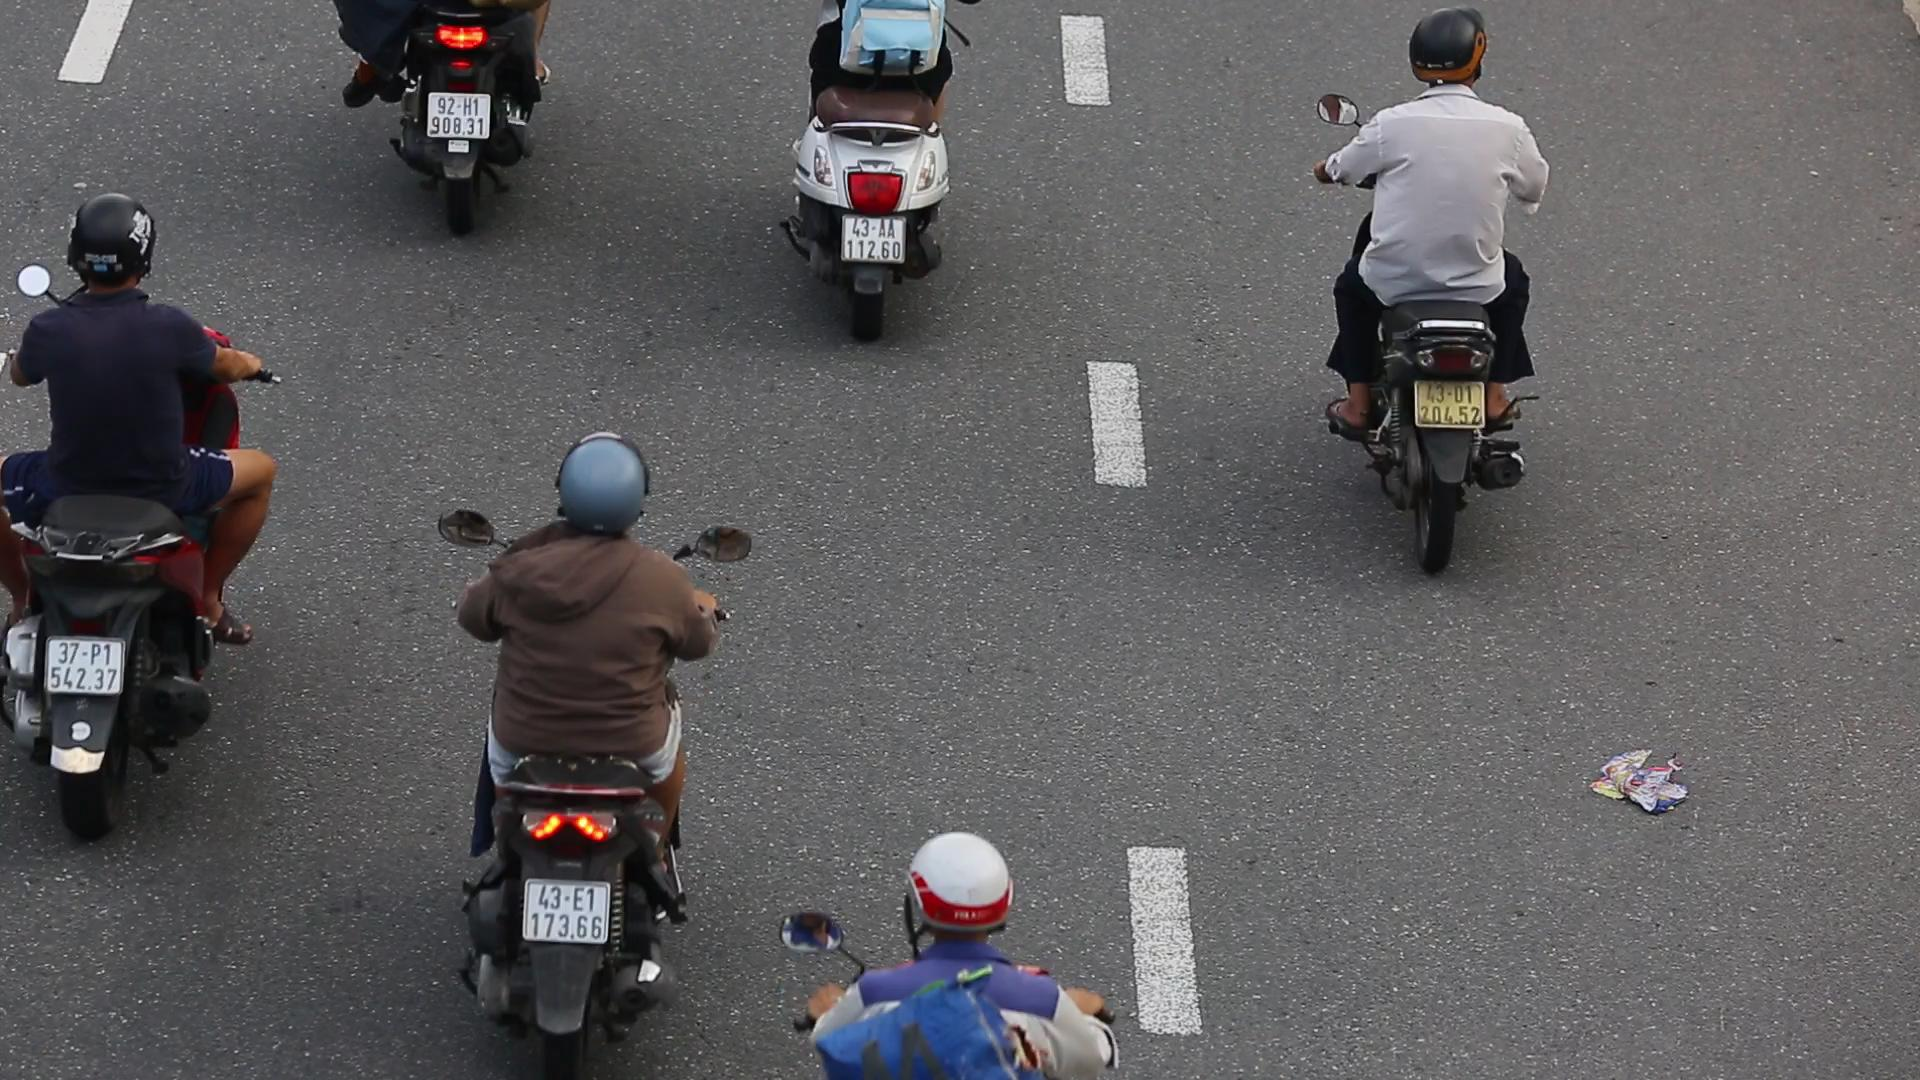motobike: (417, 410, 753, 1062), (0, 167, 293, 853), (1305, 1, 1564, 603)
